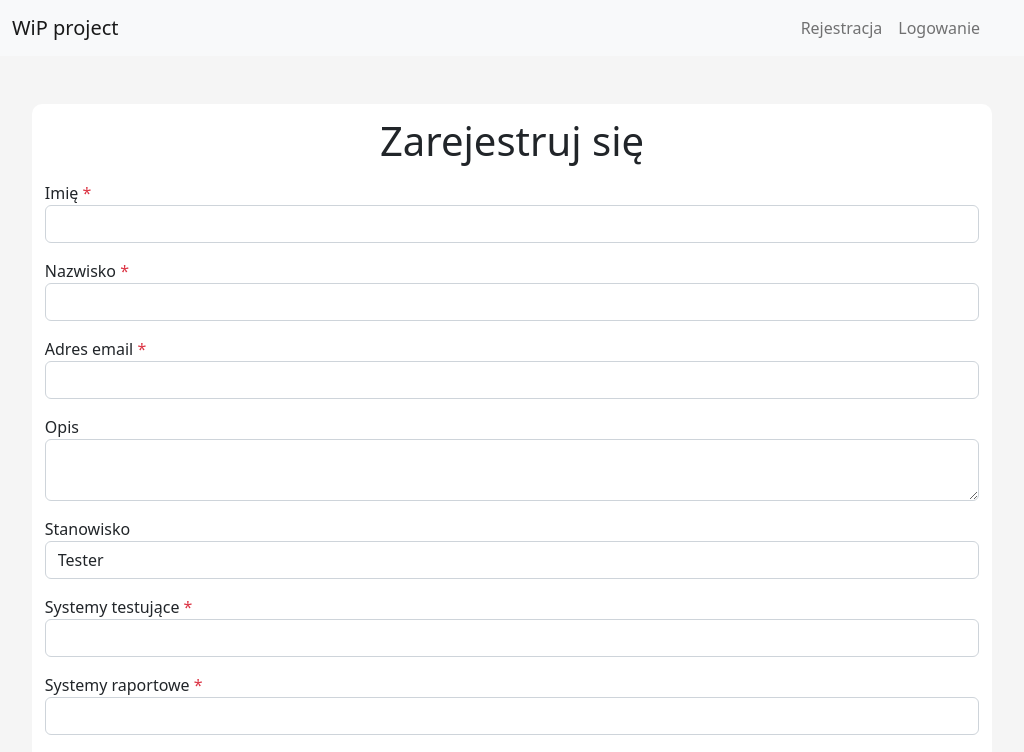
it: check that after select job form will change
This screenshot has width=1024, height=752.
Select "Developer" in the dropdown labelled "Stanowisko" at (512, 560), box [45,541,979,579]
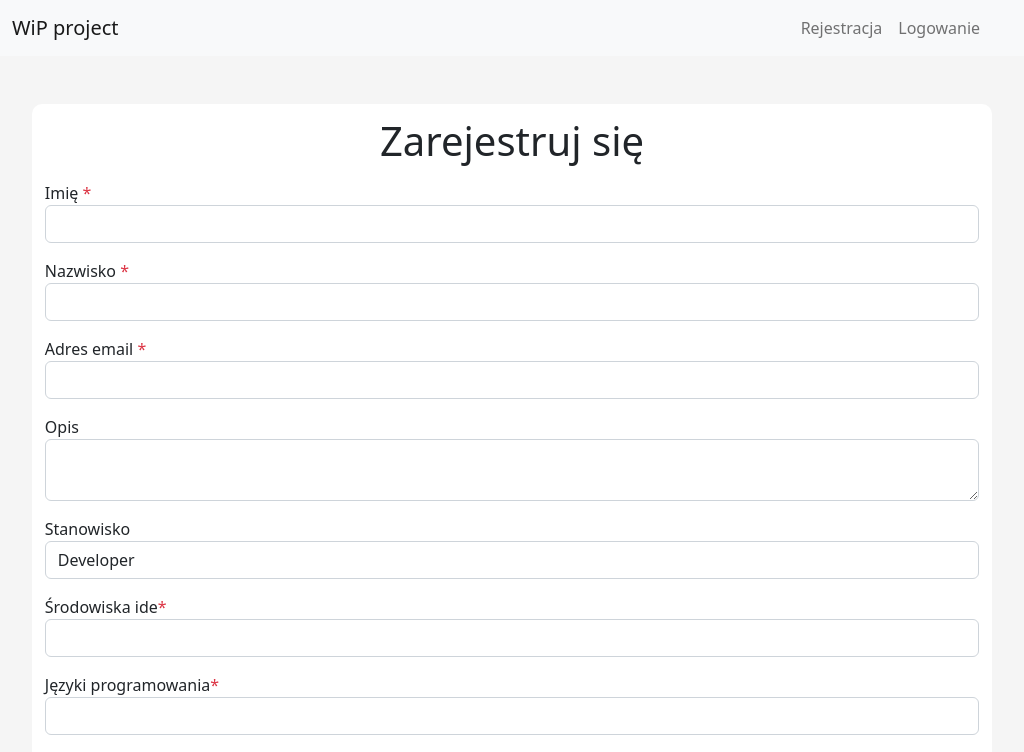
Now the text "Języki programowania" is shown, box [45,674,210,696]
Select "Project manager" in the dropdown labelled "Stanowisko" at (512, 560), box [45,541,979,579]
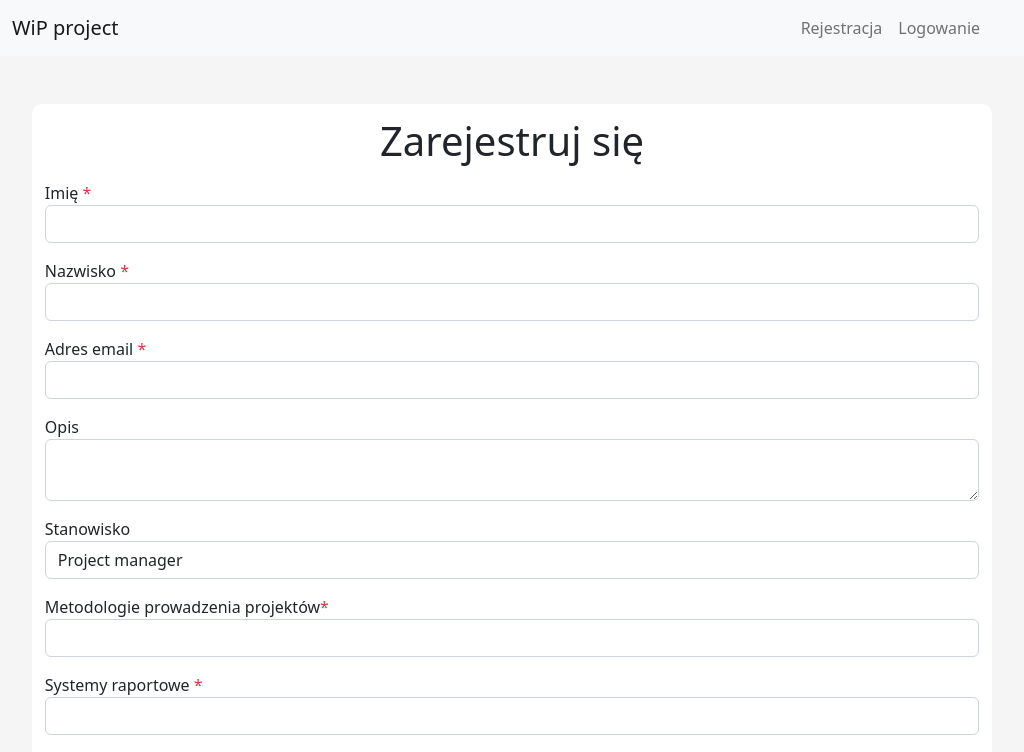
Now the text "Metodologie prowadzenia projektów" is shown, box [45,596,320,618]
